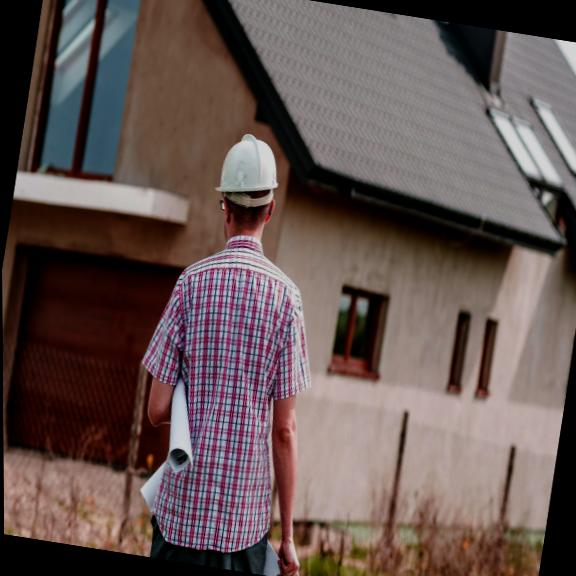no_safety_vest: (143, 241, 315, 522)
